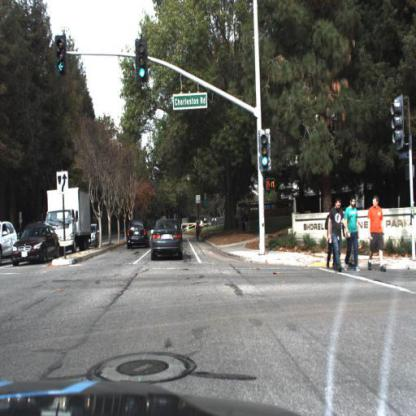car: (13, 222, 60, 268), (151, 219, 183, 261), (127, 220, 150, 251), (91, 224, 101, 249)
pedestrian: (368, 196, 389, 276), (330, 196, 344, 278), (347, 196, 359, 275), (325, 210, 333, 270), (194, 215, 205, 244), (195, 218, 202, 241), (245, 211, 250, 232)
trafficLight: (133, 37, 152, 84), (53, 33, 68, 79), (259, 129, 273, 172)
trafficLight-Green: (137, 40, 150, 82)
trafficLight-GreenLeft: (55, 34, 66, 74)
truck: (47, 189, 91, 249)
